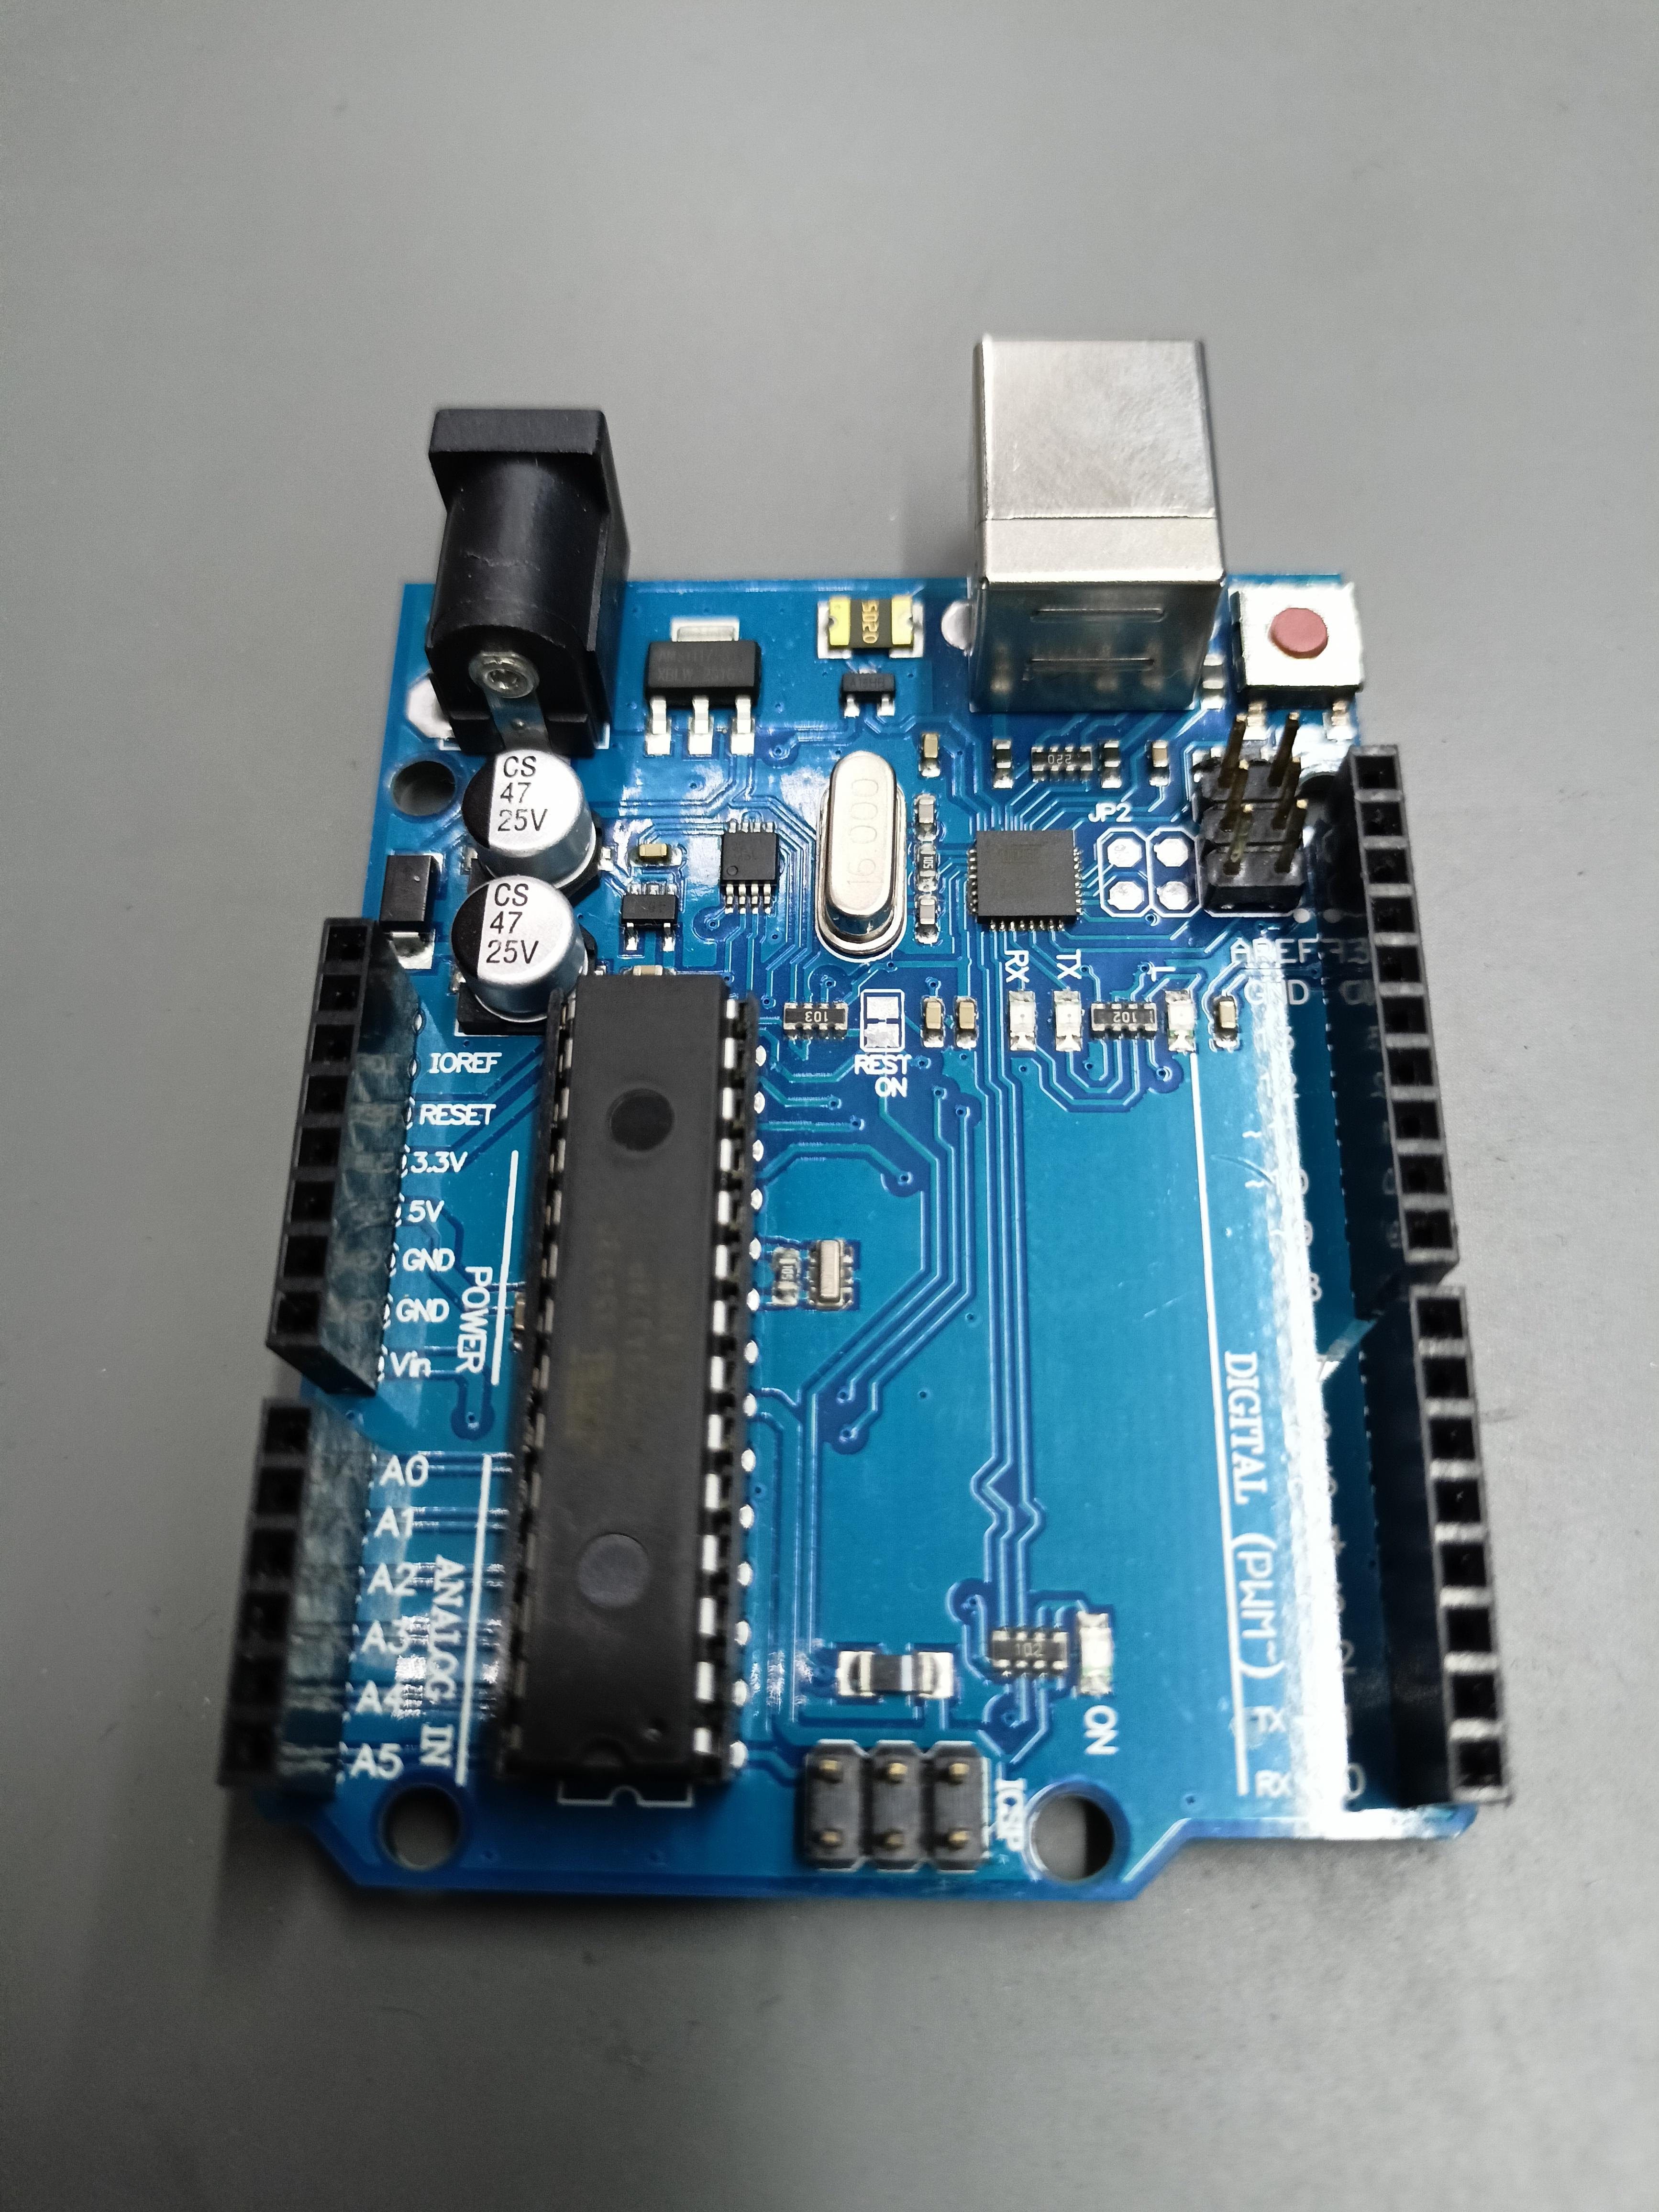ATmega328 chip: (493, 975, 760, 1784)
Arduino board: (214, 336, 1516, 1902)
USB: (969, 334, 1225, 712)
capacitor: (451, 876, 596, 1035), (462, 749, 605, 907)
pins: (1307, 745, 1459, 1322), (1361, 1285, 1514, 1811), (265, 918, 420, 1395), (216, 1397, 373, 1794)
resistor: (992, 1629, 1066, 1676), (1089, 1003, 1155, 1038), (782, 1003, 847, 1036), (1030, 747, 1093, 780)
